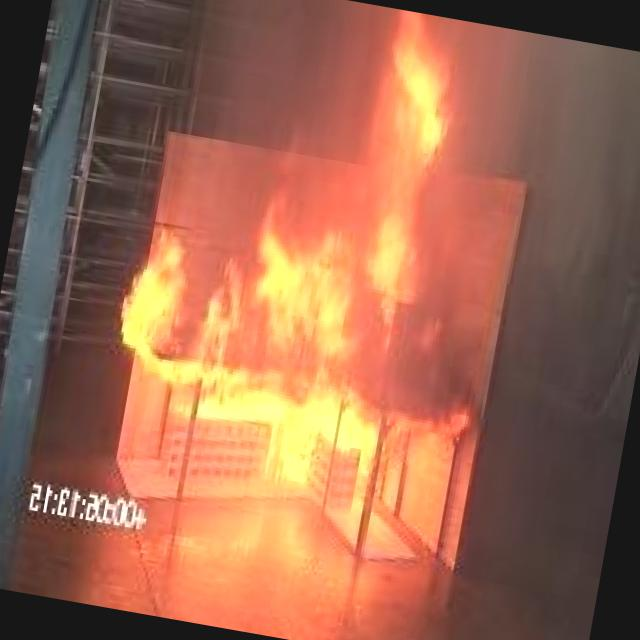fire: (74, 0, 557, 563)
